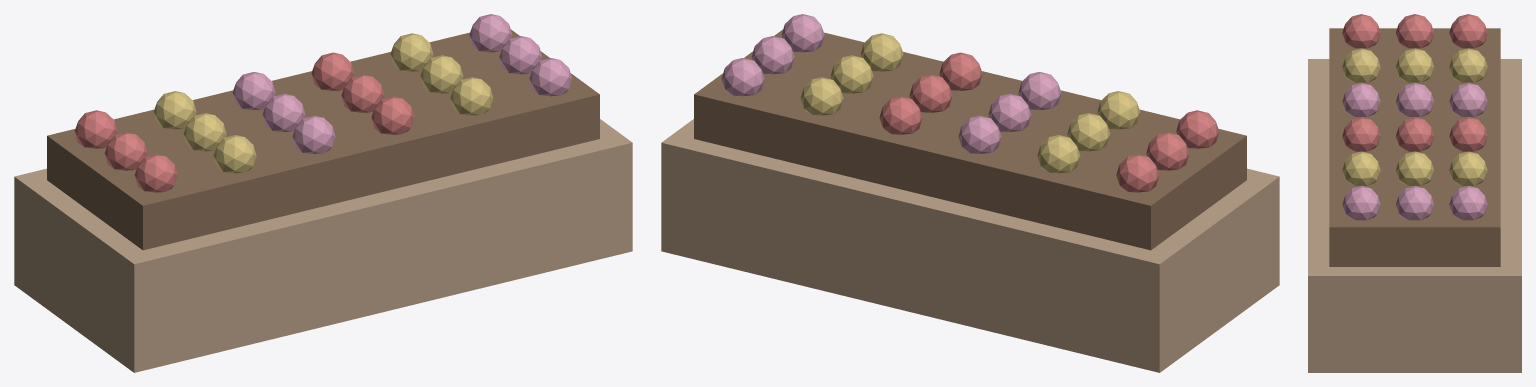
The model's file is flower_bed.glb.
3 views of the same model, side by side, from view 1: azimuth 30°, elevation 25°; view 2: azimuth 150°, elevation 25°; view 3: azimuth 270°, elevation 25° (orthographic). The views are drawn at different scales.
Parts seen in each view (by area): view 1: brick_base, soil, flower_12, flower_15, flower_16, flower_13, flower_17, flower_14, flower_4, flower_0, flower_6, flower_10 (+8 smaller); view 2: brick_base, soil, flower_0, flower_3, flower_4, flower_1, flower_5, flower_2, flower_16, flower_6, flower_10, flower_12 (+8 smaller); view 3: brick_base, soil, flower_9, flower_11, flower_5, flower_17, flower_0, flower_12, flower_3, flower_15, flower_1, flower_13 (+8 smaller).
Boxes of the visible parts, box(x1,y1,x2,y2) form: brick_base: box(14, 119, 632, 372); soil: box(47, 29, 599, 250); flower_12: box(134, 154, 177, 192); flower_15: box(371, 96, 414, 134); flower_16: box(450, 77, 493, 115); flower_13: box(213, 135, 256, 173); flower_17: box(529, 58, 572, 96); flower_14: box(292, 115, 335, 153); flower_4: box(390, 33, 433, 71); flower_0: box(74, 110, 117, 148); flower_6: box(104, 132, 147, 170); flower_10: box(420, 55, 463, 93); brick_base: box(661, 119, 1279, 372); soil: box(694, 29, 1246, 250); flower_0: box(1116, 154, 1159, 192); flower_3: box(879, 96, 922, 134); flower_4: box(800, 77, 843, 115); flower_1: box(1037, 135, 1080, 173); flower_5: box(721, 58, 764, 96); flower_2: box(958, 115, 1001, 153); flower_16: box(860, 33, 903, 71); flower_6: box(1146, 132, 1189, 170); flower_10: box(830, 55, 873, 93); flower_12: box(1176, 110, 1219, 148); brick_base: box(1308, 59, 1521, 372); soil: box(1329, 28, 1500, 266); flower_9: box(1395, 117, 1434, 151); flower_11: box(1396, 186, 1433, 220); flower_5: box(1449, 186, 1487, 220); flower_17: box(1342, 186, 1380, 220); flower_0: box(1449, 14, 1487, 48); flower_12: box(1342, 14, 1380, 48); flower_3: box(1449, 117, 1487, 151); flower_15: box(1342, 117, 1380, 151); flower_1: box(1449, 48, 1487, 82); flower_13: box(1342, 48, 1380, 82).
Size of the model in its own units: 2.4 by 0.84 by 1.
